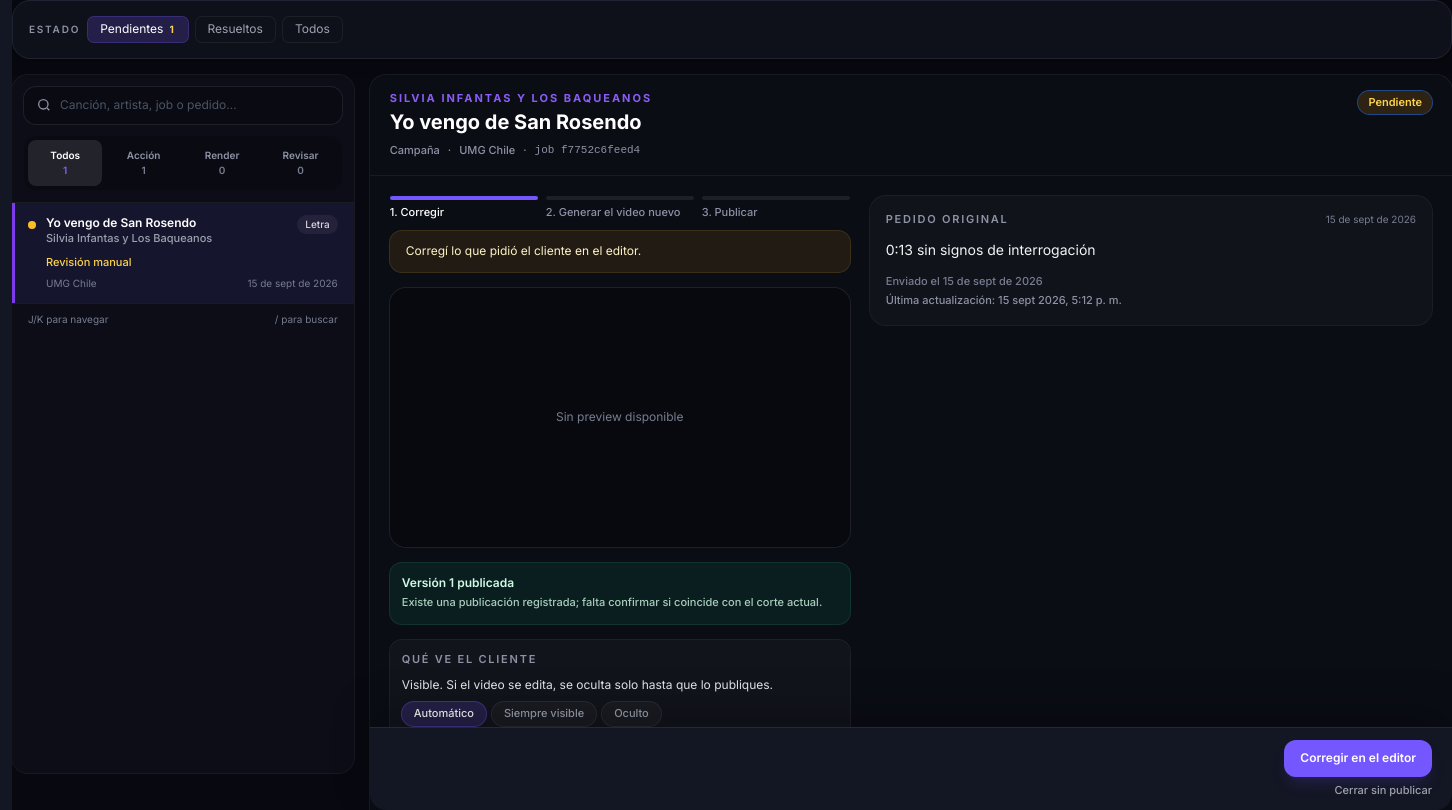
Test: ChangeRequestsPanel › keeps manual resolution available, collapsed, and names it for what it is
The width and height of the screenshot is (1452, 810).
Click the button "Cerrar sin publicar" at (1383, 790), box [1334,783,1432,798]
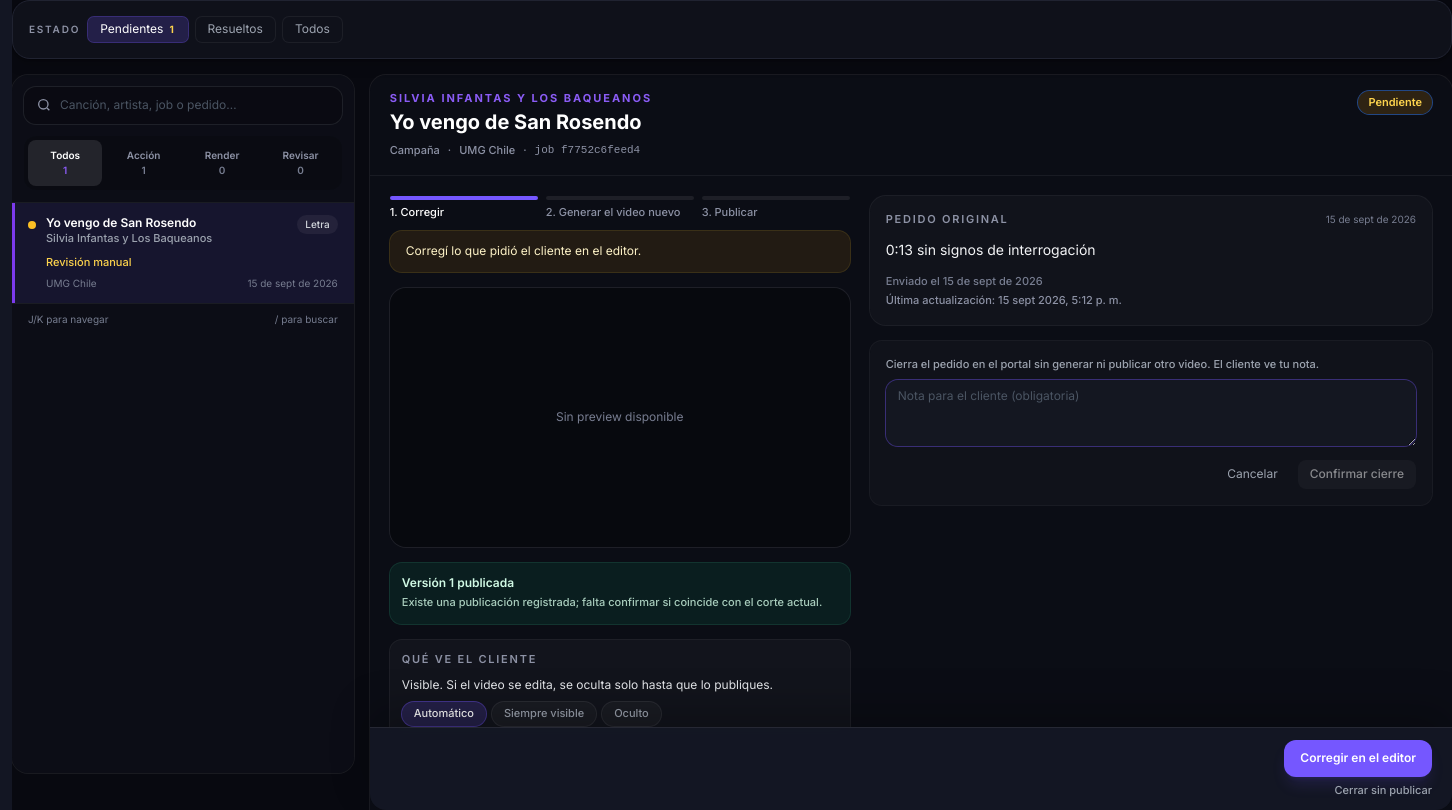
Expected: the text "Cierra el pedido en el portal sin generar ni publicar otro video. El cliente ve tu nota." is shown, [886,356,1319,370]
